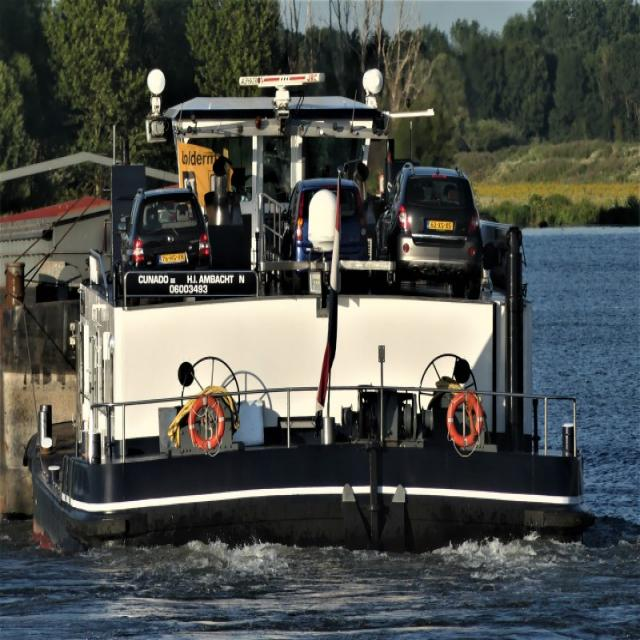tugboat: (19, 64, 594, 571)
